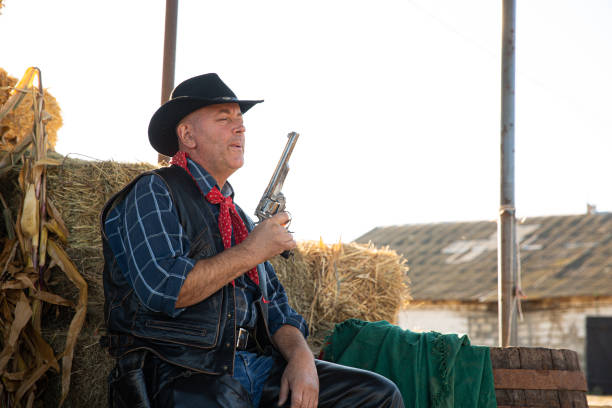gun: (252, 131, 301, 258)
